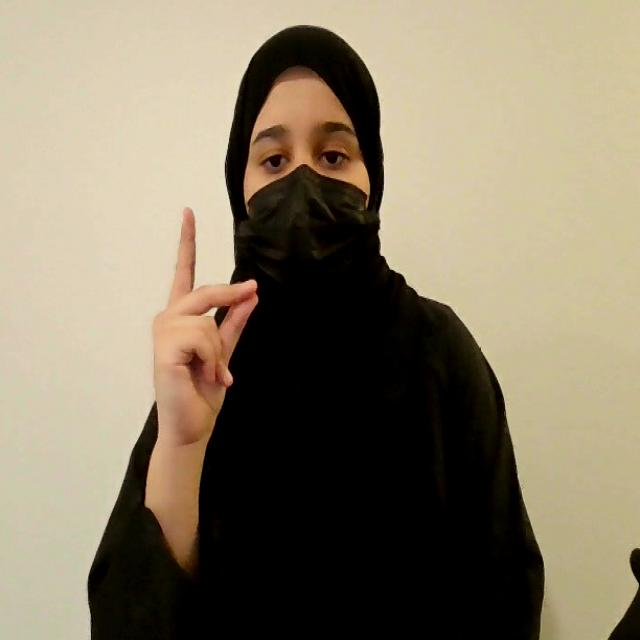emergency: (144, 206, 258, 458)
